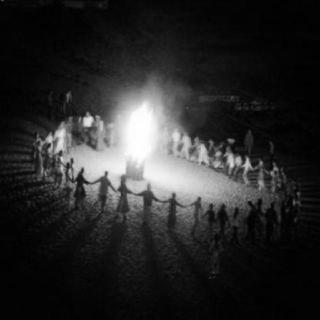Fire: (118, 93, 160, 165)
